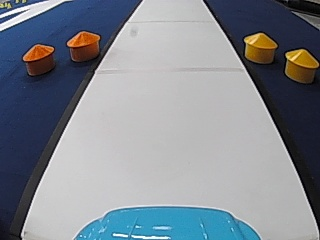granary: (282, 46, 318, 82), (242, 30, 279, 63), (65, 28, 101, 61), (21, 41, 54, 75)
